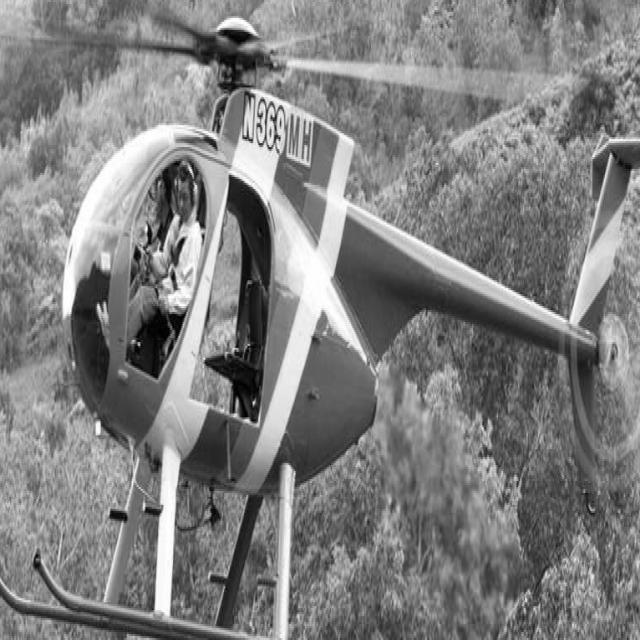helicopter: (1, 21, 640, 640)
